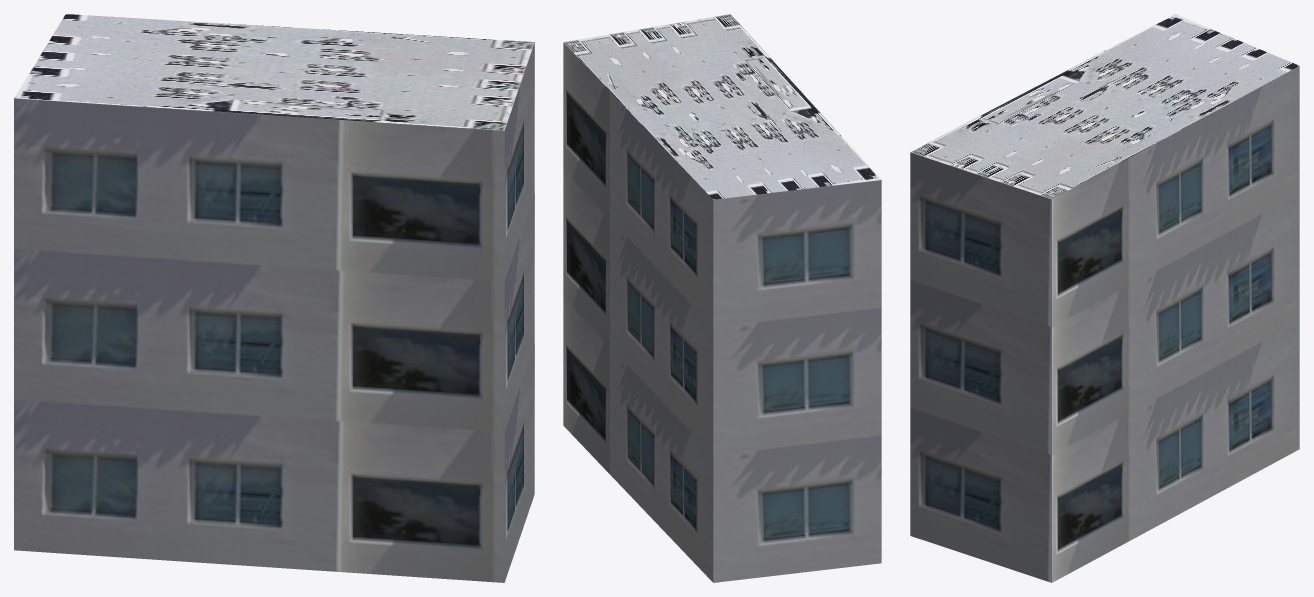
The model's file is ResTex__3550.fbx.
3 renders of one model, left to right at view 1: azimuth 30°, elevation 25°; view 2: azimuth 150°, elevation 25°; view 3: azimuth 270°, elevation 25°, orthographic. The views are drawn at different scales.
Visible parts, largest first — view 1: CityEngineMaterial_10_m, CityEngineMaterial_m; view 2: CityEngineMaterial_10_m, CityEngineMaterial_m; view 3: CityEngineMaterial_10_m, CityEngineMaterial_m.
Part boxes in pixels (x1=…): CityEngineMaterial_10_m: x1=14, y1=42, x2=534, y2=582; CityEngineMaterial_m: x1=14, y1=14, x2=534, y2=130; CityEngineMaterial_10_m: x1=563, y1=43, x2=881, y2=582; CityEngineMaterial_m: x1=563, y1=14, x2=881, y2=199; CityEngineMaterial_10_m: x1=910, y1=66, x2=1299, y2=582; CityEngineMaterial_m: x1=910, y1=14, x2=1299, y2=199.
Size of the model in its own units: 9.34 by 9 by 8.28.
Materials: 2 (2 with a texture image).
